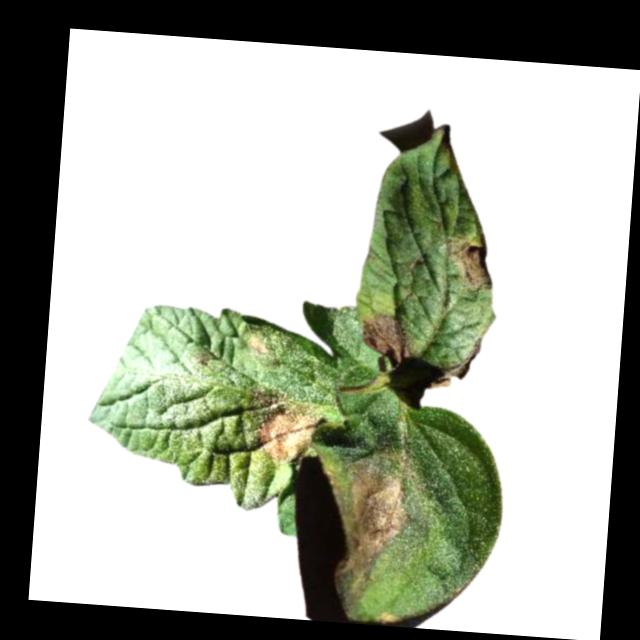Late_blight: (341, 458, 413, 578), (254, 395, 323, 467), (444, 233, 495, 293), (434, 334, 482, 393), (361, 313, 413, 367), (243, 333, 270, 358)
